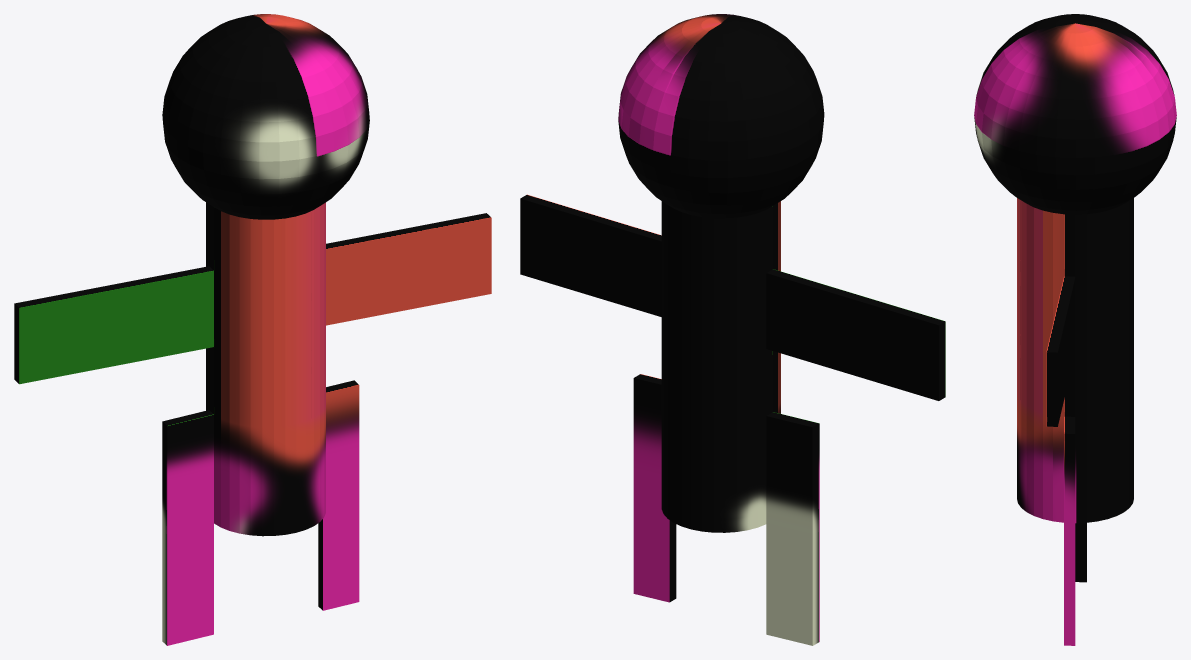
The model's file is CharacterMesh.fbx.
3 views of the same model, side by side, from view 1: azimuth 30°, elevation 25°; view 2: azimuth 150°, elevation 25°; view 3: azimuth 270°, elevation 25° (orthographic). The views are drawn at different scales.
Visible parts, largest first — view 1: Cylinder; view 2: Cylinder; view 3: Cylinder.
Boxes of the visible parts, x1,y1,x2,y2 form: Cylinder: (14,14,491,645); Cylinder: (520,14,945,645); Cylinder: (974,14,1176,645).
Size of the model in its own units: 860 by 1098 by 346.
1 material, 1 textured.
